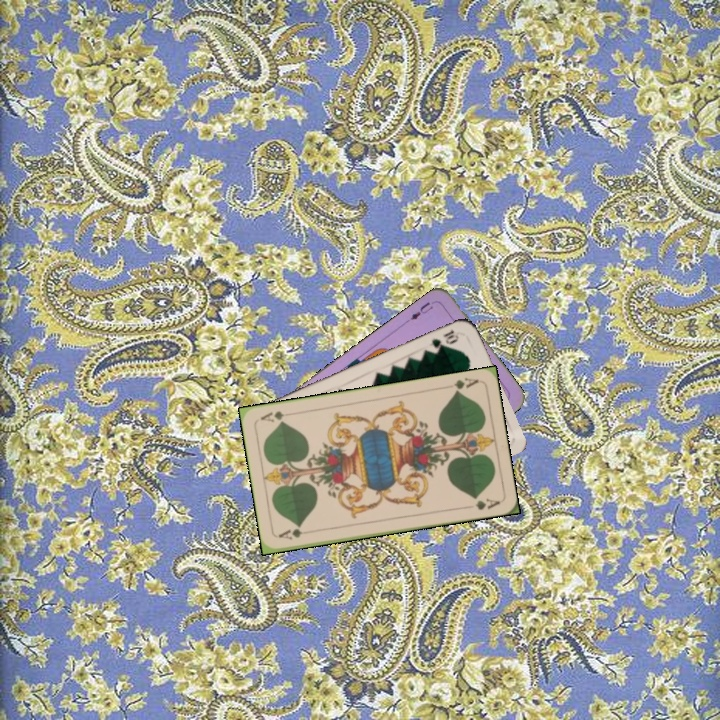EU: (404, 296, 439, 324)
G10: (427, 325, 462, 353)
GA: (274, 524, 315, 542), (450, 374, 481, 396)
